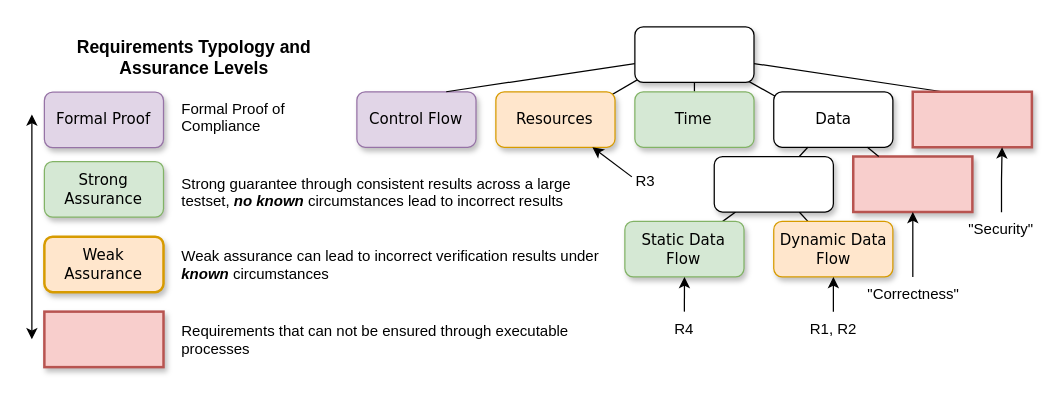
Image size: 1063x399. Some labels were removed from this diagram. The centre of each missing label's shape, as x and y in pixels:
"Data Flow" belongs at point (774, 185).
"Data Quality" belongs at point (913, 185).
"Enviromental" belongs at point (973, 121).
"Requirements" belongs at point (695, 56).
"Unverifieable" belongs at point (105, 340).
